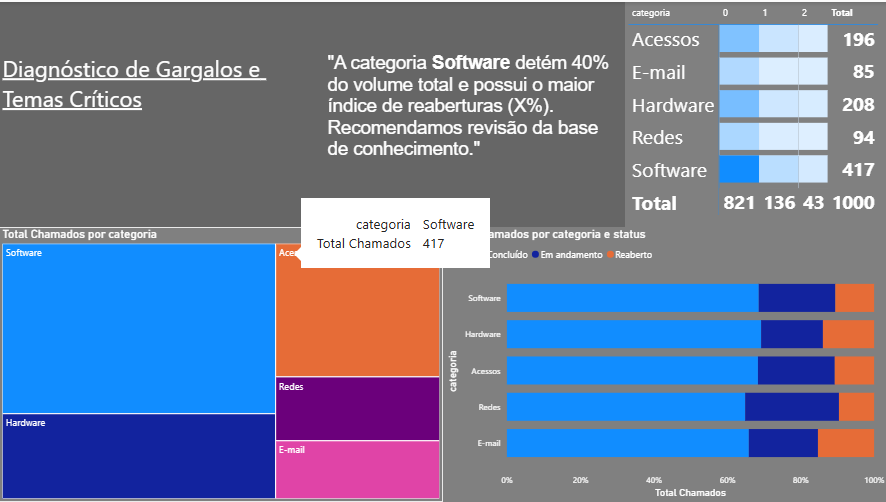

What the dashboard file says about the page in this screenshot:
{"tool":"powerbi","page":{"name":"Página 4","canvas":[1280,720],"ordinal":3},"visuals":[{"type":"treemap","fields":{"Group":["base_helpdesk_final.categoria"],"Values":["base_helpdesk_final.Total Chamados"]},"box":[0,324,639.4,396],"z":0},{"type":"hundredPercentStackedBarChart","fields":{"Category":["base_helpdesk_final.categoria"],"Y":["base_helpdesk_final.Total Chamados"],"Series":["base_helpdesk_final.status"]},"box":[639.4,324,640.8,396],"z":1000},{"type":"pivotTable","fields":{"Rows":["base_helpdesk_final.categoria"],"Columns":["base_helpdesk_final.reaberturas"],"Values":["base_helpdesk_final.Total Chamados"]},"box":[901.4,0,378.7,324],"z":2000},{"type":"textbox","box":[468,67.7,433.4,256.3],"z":3000},{"type":"textbox","box":[0,68,468,256],"z":4000}]}

Visuals, with their boxes in screenshot pixels (x1, y1, x2, y2), scaled from the page's 1280x720 canvas onto the 886x502 screenshot:
treemap - base_helpdesk_final.categoria x base_helpdesk_final.Total Chamados: pyautogui.locateOnScreen(0, 226, 443, 501)
hundredPercentStackedBarChart - base_helpdesk_final.categoria x base_helpdesk_final.Total Chamados: pyautogui.locateOnScreen(443, 226, 885, 501)
pivotTable - base_helpdesk_final.categoria x base_helpdesk_final.reaberturas: pyautogui.locateOnScreen(624, 0, 885, 226)
textbox: pyautogui.locateOnScreen(324, 47, 624, 226)
textbox: pyautogui.locateOnScreen(0, 47, 324, 226)
